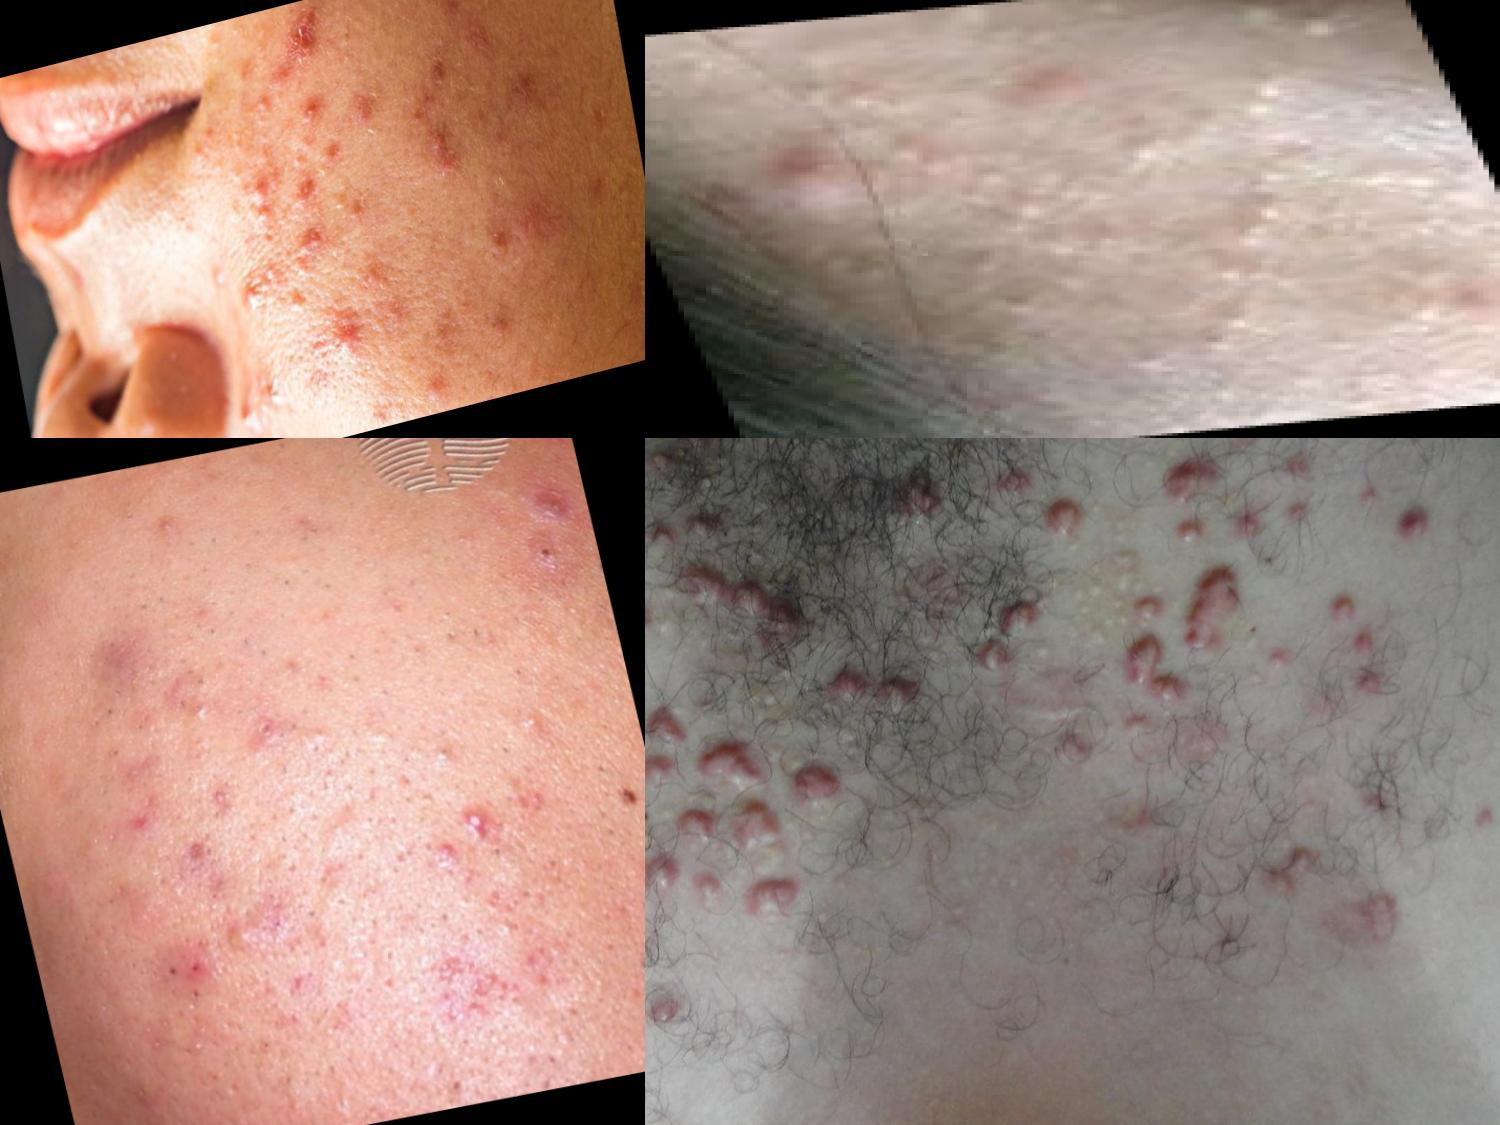blackhead: (412, 722, 485, 775), (511, 529, 578, 578), (170, 653, 227, 700)
keloid: (670, 535, 827, 681), (943, 584, 1068, 700), (646, 796, 741, 937), (1159, 550, 1261, 666), (1111, 622, 1209, 739), (1318, 583, 1397, 707), (820, 653, 928, 733), (687, 726, 777, 809), (1143, 446, 1233, 515), (733, 867, 819, 934), (1374, 488, 1449, 562), (646, 697, 702, 796), (781, 750, 852, 822), (728, 798, 794, 869), (1041, 438, 1174, 464), (1030, 490, 1088, 548), (646, 578, 664, 648)
milium: (224, 18, 249, 48)
papular: (732, 134, 893, 221), (455, 787, 510, 845), (211, 913, 270, 968), (519, 482, 572, 529), (413, 119, 462, 170), (246, 176, 285, 238), (231, 269, 275, 320), (330, 311, 369, 358)
purulent: (295, 96, 326, 138)
whitehead: (1124, 126, 1374, 260), (1049, 297, 1320, 394), (904, 230, 1131, 326), (901, 118, 1080, 230), (741, 39, 913, 123), (1183, 1, 1362, 67), (471, 908, 533, 957), (348, 713, 402, 766), (498, 710, 550, 760)
